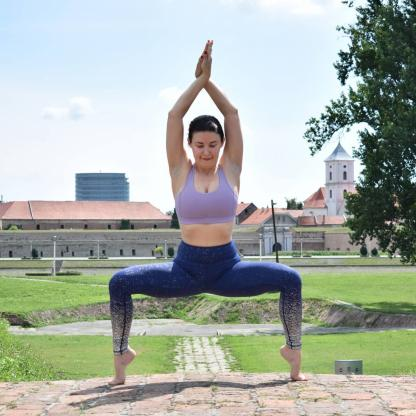godness: (97, 34, 313, 394)
